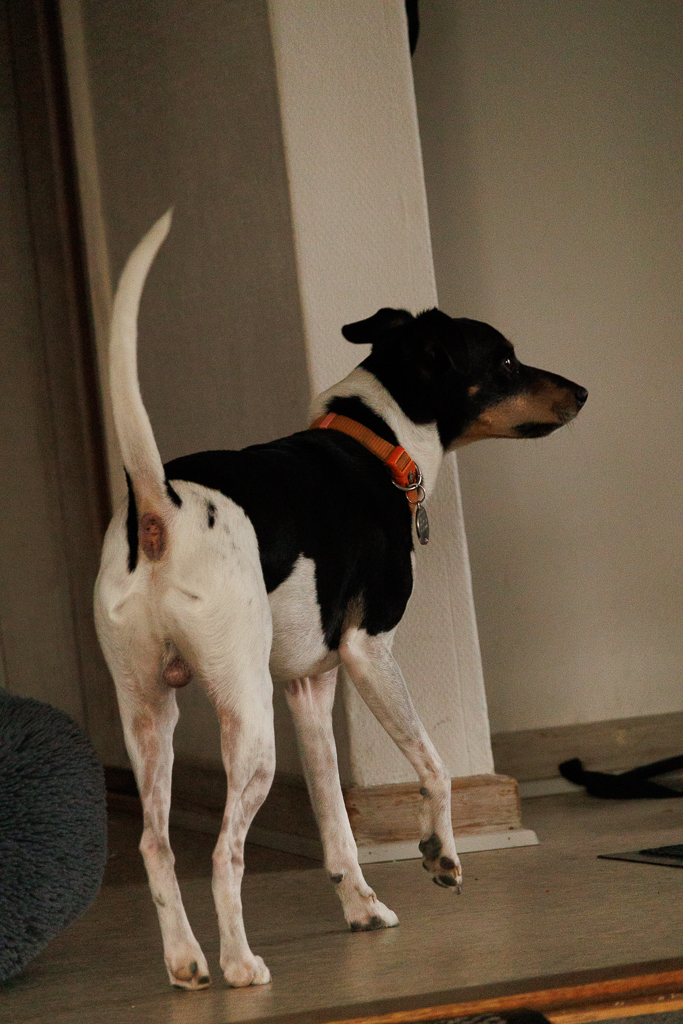Dog: (70, 182, 602, 1008)
